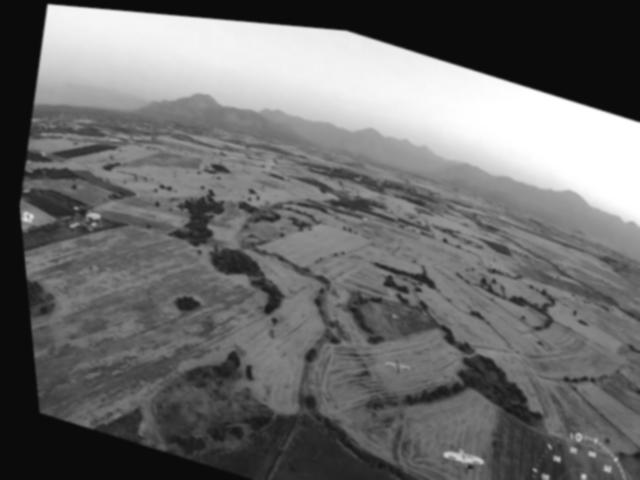hedef: (426, 428, 483, 473)
